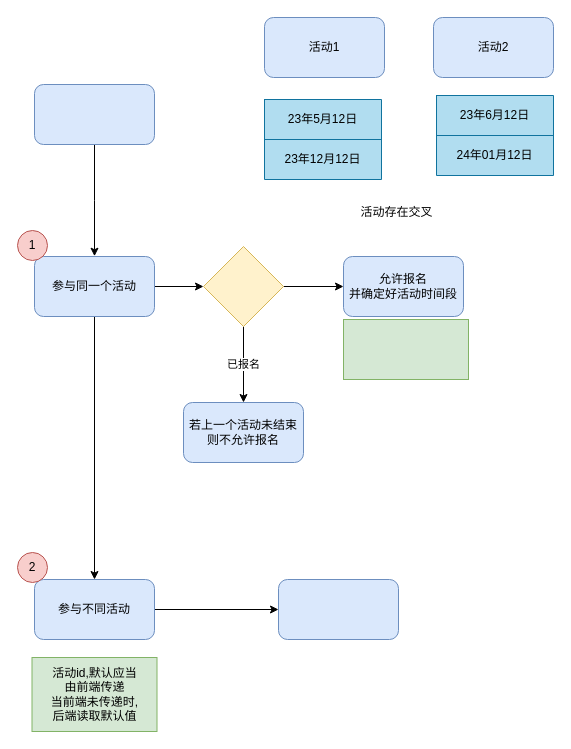
Image size: 571x749. Some labels were removed from this diagram. The box of each missing label's shape, as (x1, y1, x2, y2) in pixels:
两个不同活动 应当互不影响: (278, 578, 398, 640)
是否已经报名: (202, 246, 284, 326)
此活动时间段 影响着下一次报名时机: (342, 318, 468, 380)
用户报名: (34, 84, 154, 144)
